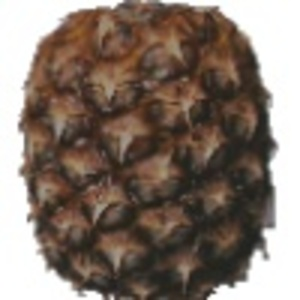abacaxi: (12, 3, 285, 295)
